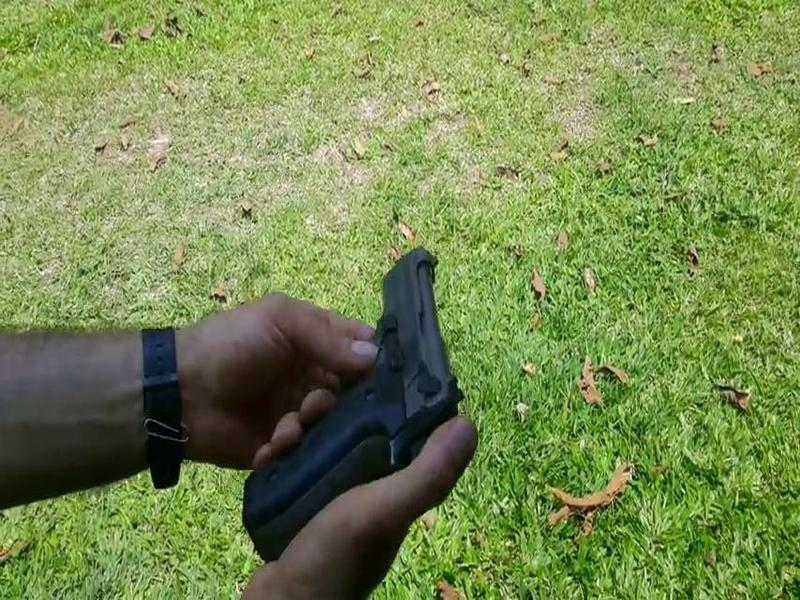Pistola: (250, 234, 490, 567)
